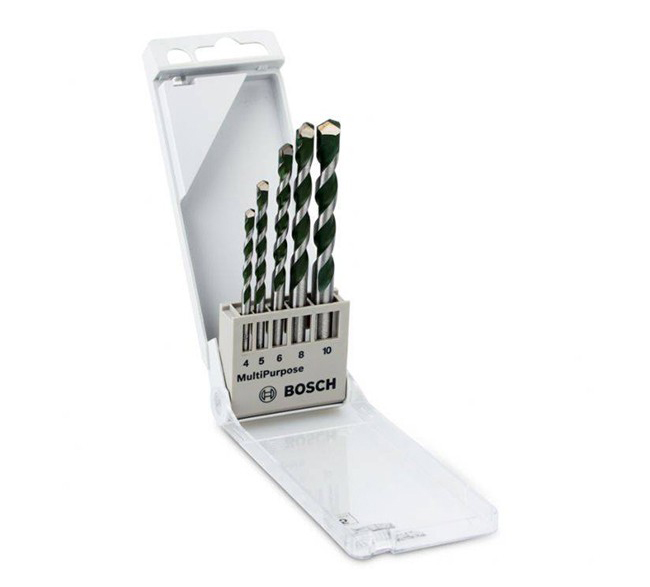Bosch: (279, 375, 345, 401)
